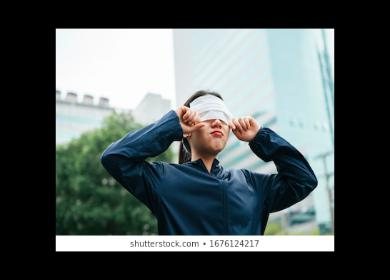mask_weared_incorrect: (190, 99, 231, 150)
